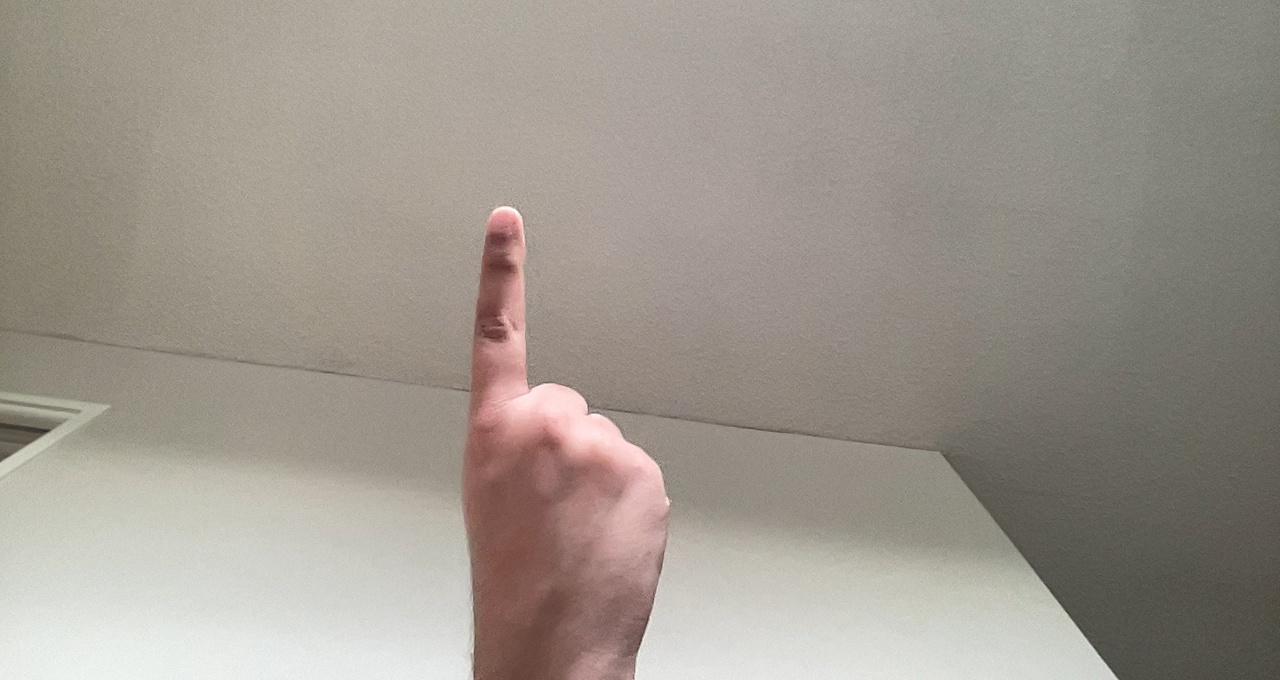fingerup: (461, 196, 684, 655)
